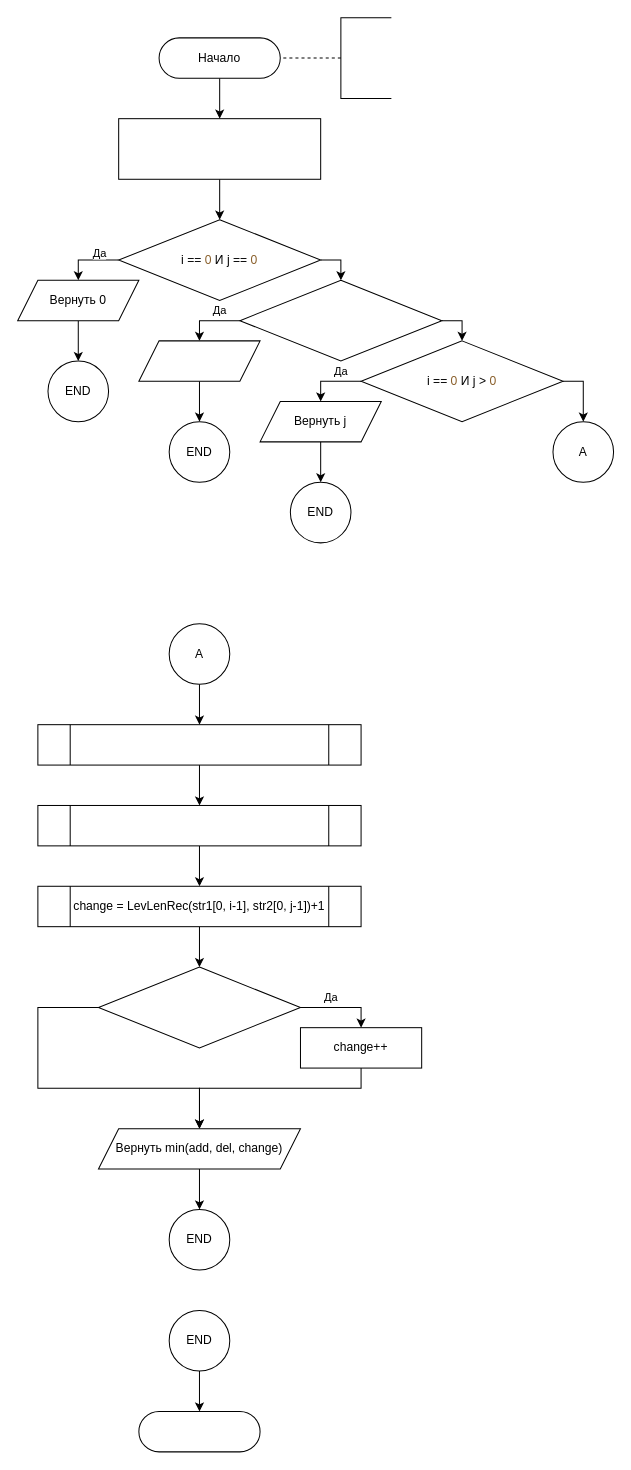
This 631x1470 diagram has some shape labels left out. Here are the shapes that lost their labels. From the top down, the centre of each, then its label:
At (365,57): "LevLenRec(str1, str2) Рекурсивный метод расчёта расстояния Левенштейна".
At (219,148): "i = str1.length(); j = str2.length();".
At (340,320): "i > 0 И j == 0".
At (199,360): "Вернуть i".
At (199,744): "add = LevLenRec(str1[0, i], str2[0, j-1])+1".
At (199,825): "del = LevLenRec(str1[0, i-1], str2[0, j])+1".
At (198,1007): "если str1[j-1] != str2[i-1]".
At (199,1431): "Конец".
